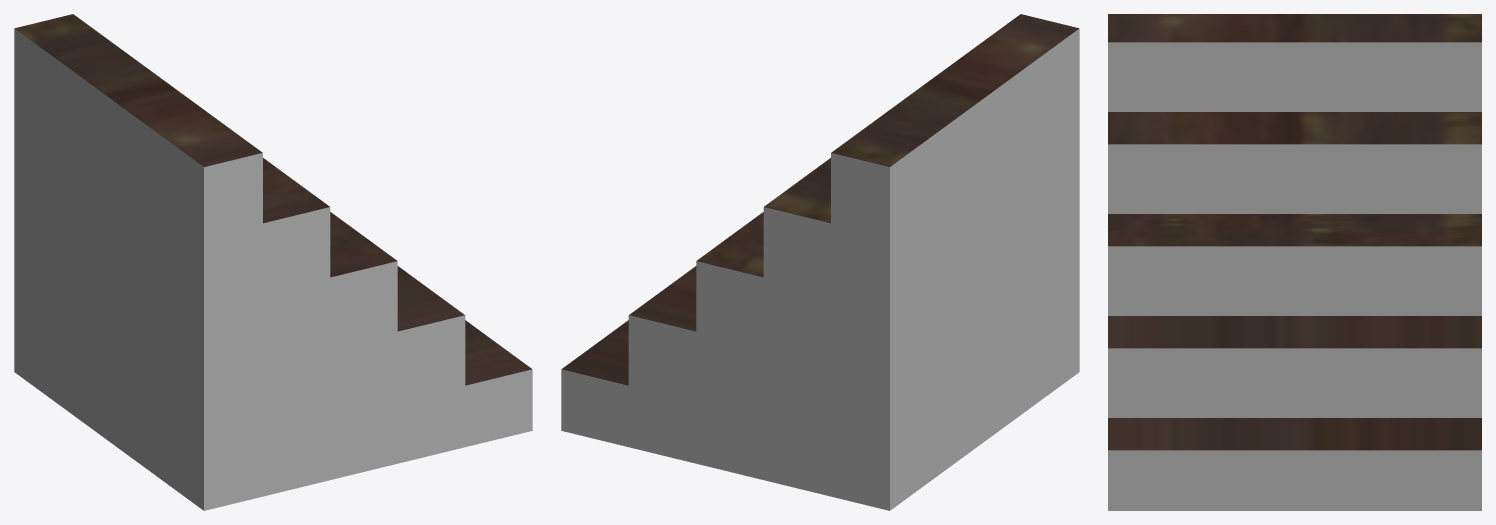
The model's file is stairs _v1.fbx.
3 renders of one model, left to right at view 1: azimuth 30°, elevation 25°; view 2: azimuth 150°, elevation 25°; view 3: azimuth 270°, elevation 25°, orthographic.
Parts seen in each view (by area): view 1: Cube; view 2: Cube; view 3: Cube.
Boxes of the visible parts, left/top/right/bottom form: Cube: left=14, top=14, right=532, bottom=510; Cube: left=561, top=14, right=1079, bottom=510; Cube: left=1108, top=14, right=1481, bottom=510.
Size of the model in its own units: 200 by 200 by 200.
